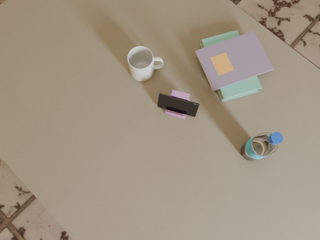book: (195, 31, 274, 91), (200, 30, 262, 102)
bottle: (241, 132, 283, 161)
cup: (128, 46, 163, 81)
phone: (157, 93, 199, 117)
